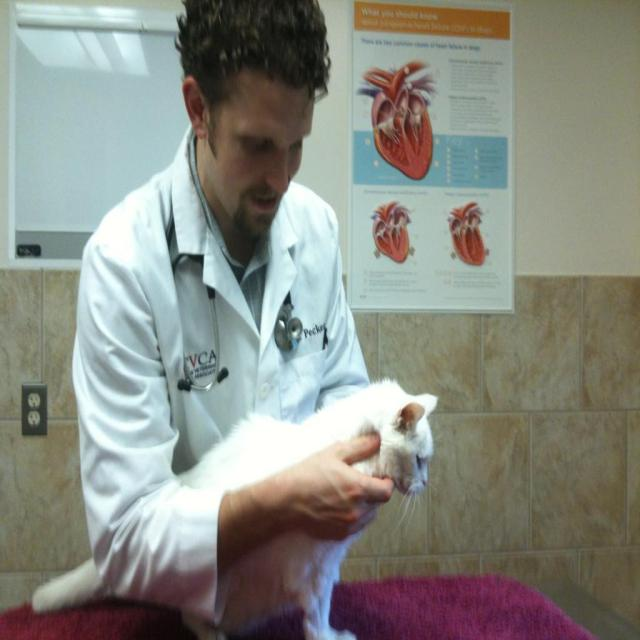Cat: (27, 372, 439, 638)
